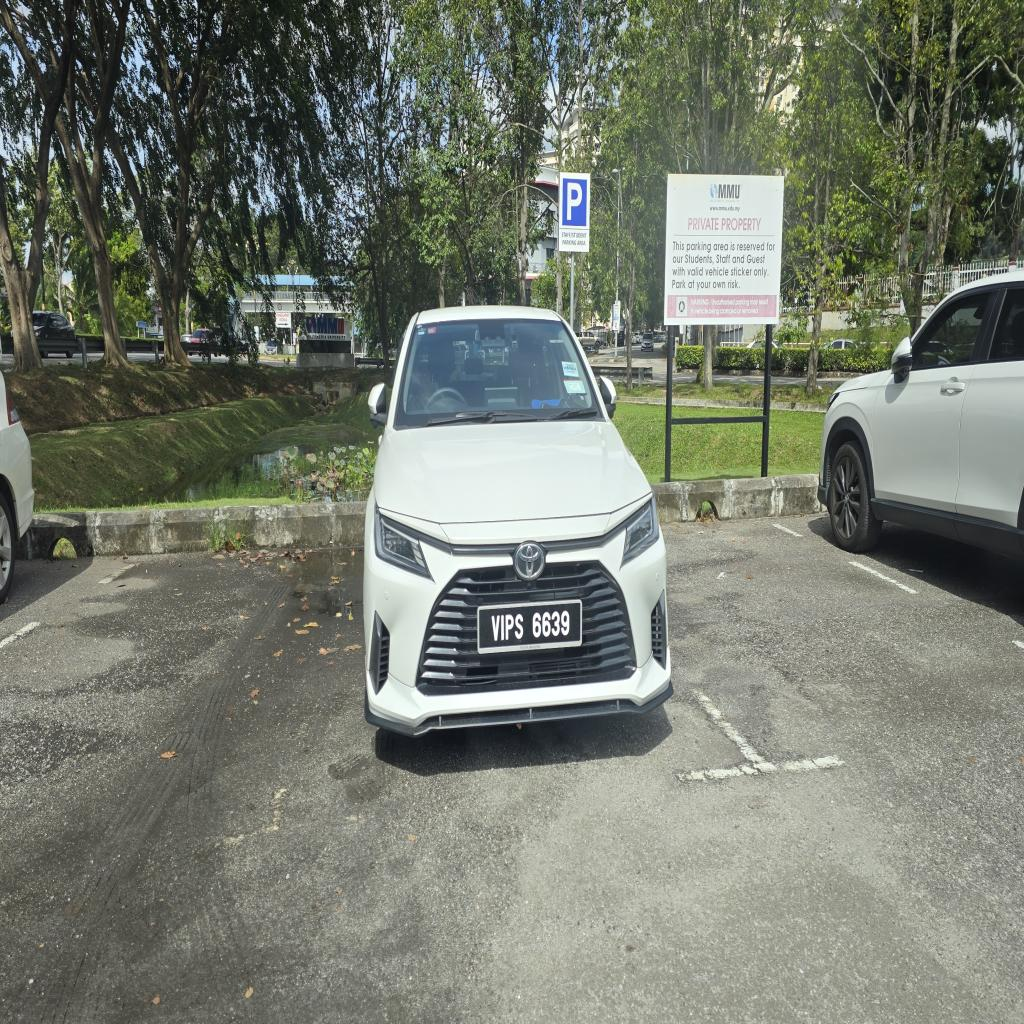car: (364, 307, 671, 744)
car plate: (478, 600, 581, 652)
